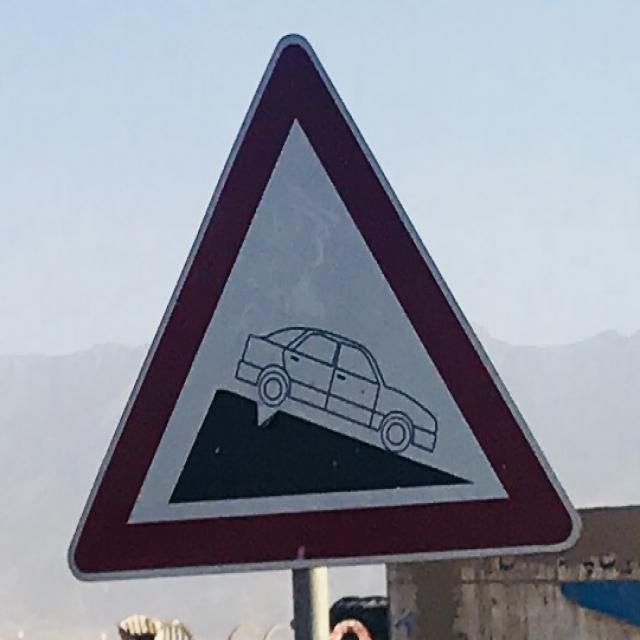steep descent: (66, 35, 587, 585)
